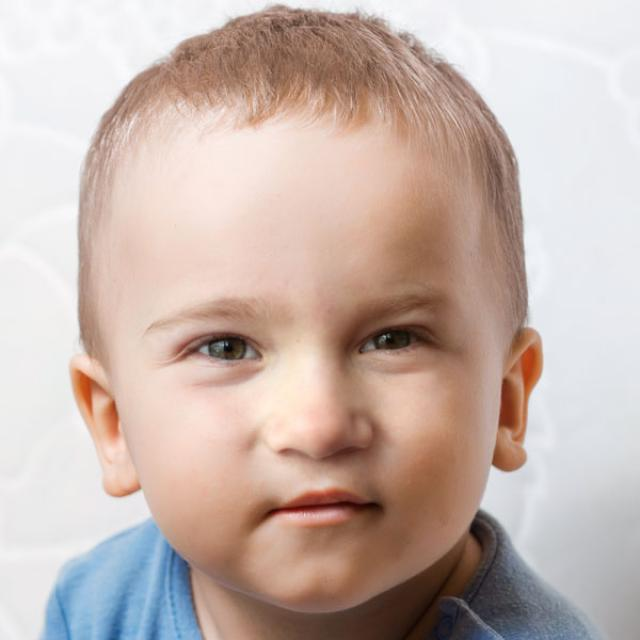face: (71, 8, 547, 616)
